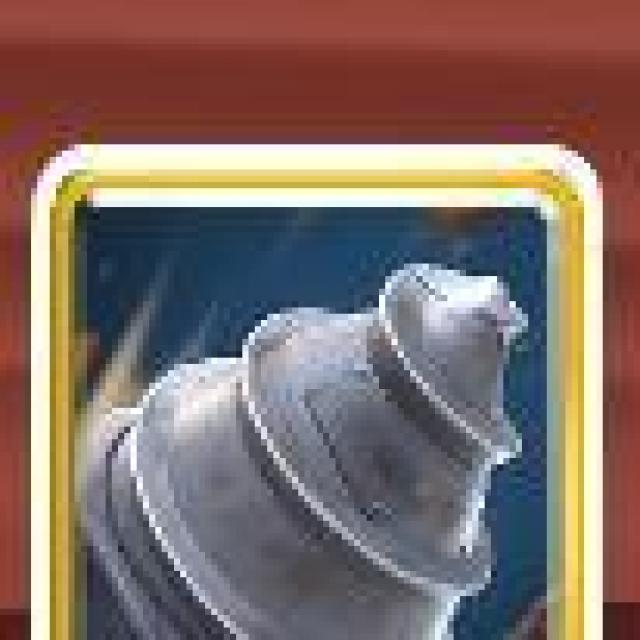Goblin_Drill: (32, 143, 605, 640)
